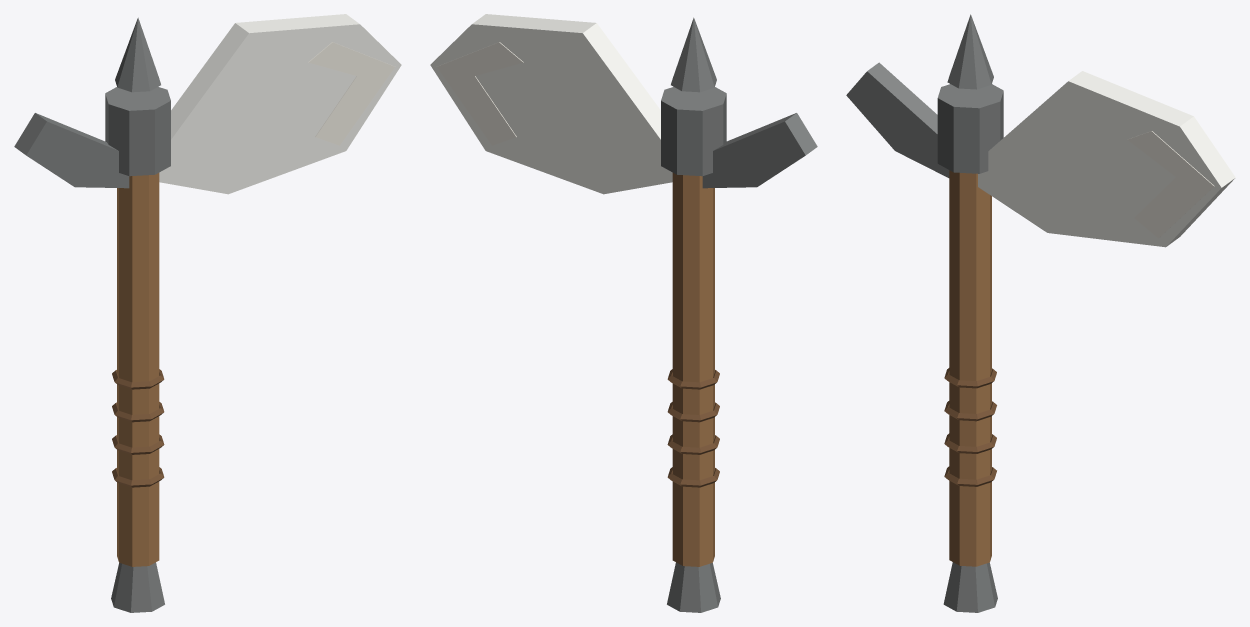
The model's file is t8_axe.glb.
3 renders of one model, left to right at view 1: azimuth 30°, elevation 25°; view 2: azimuth 150°, elevation 25°; view 3: azimuth 330°, elevation 25°, orthographic.
Visible parts, largest first — view 1: RightBlade, WoodHandle, TopSocket, BackSpike, RightBladeEdge, BottomPommel, TopSpike; view 2: RightBlade, WoodHandle, TopSocket, BackSpike, RightBladeEdge, BottomPommel, TopSpike; view 3: RightBlade, WoodHandle, BackSpike, TopSocket, RightBladeEdge, BottomPommel, TopSpike.
Boxes of the visible parts, x1,y1,x2,y2 form: RightBlade: [159, 14, 401, 194]; WoodHandle: [117, 173, 159, 566]; TopSocket: [105, 87, 170, 176]; BackSpike: [14, 113, 129, 188]; RightBladeEdge: [308, 42, 394, 145]; BottomPommel: [111, 562, 164, 612]; TopSpike: [115, 17, 160, 92]; RightBlade: [430, 14, 672, 194]; WoodHandle: [672, 173, 714, 566]; TopSocket: [661, 87, 726, 176]; BackSpike: [702, 113, 817, 188]; RightBladeEdge: [437, 42, 523, 145]; BottomPommel: [667, 562, 720, 612]; TopSpike: [671, 17, 716, 92]; RightBlade: [978, 71, 1235, 247]; WoodHandle: [949, 170, 991, 566]; BackSpike: [846, 62, 949, 177]; TopSocket: [937, 84, 1003, 173]; RightBladeEdge: [1127, 131, 1214, 238]; BottomPommel: [943, 562, 997, 612]; TopSpike: [947, 14, 993, 89].
Size of the model in its own units: 1.08 by 1.61 by 0.17.
